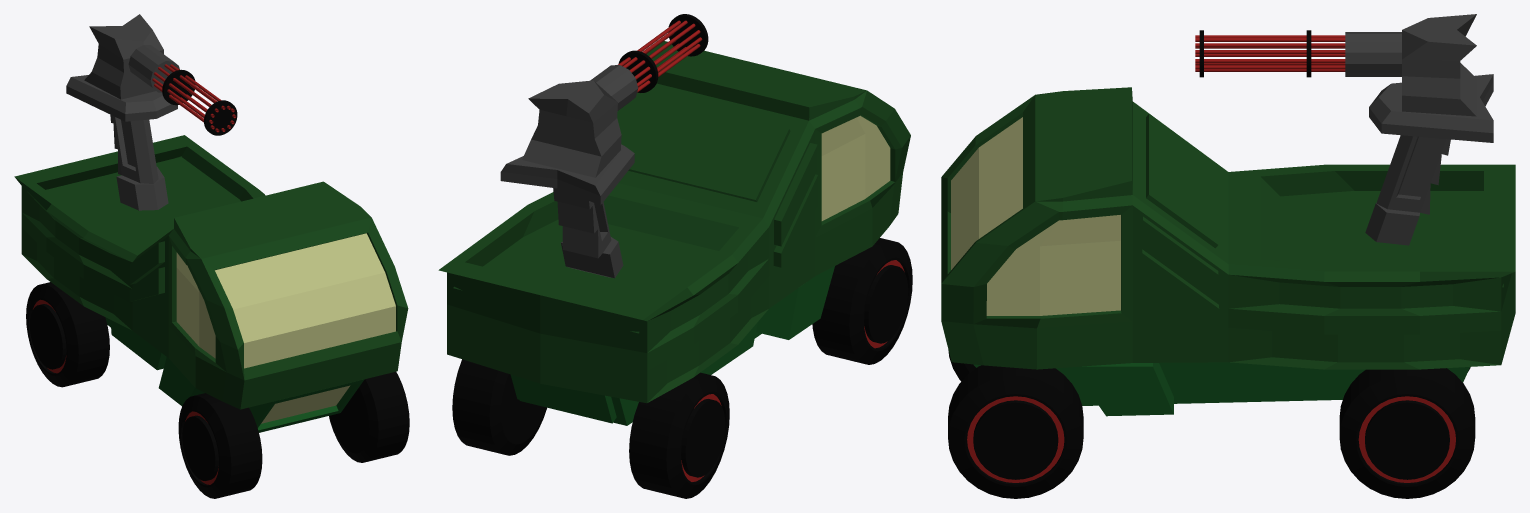
Rendered from GutlingCar.fbx.
3 views of the same model, side by side, from view 1: azimuth 30°, elevation 25°; view 2: azimuth 150°, elevation 25°; view 3: azimuth 270°, elevation 25° (orthographic). The views are drawn at different scales.
Visible parts, largest first — view 1: Cabine, FrontWheels, BackWheels, BaseCannon, CarBase, BaseGun, Cylinder.015, Cylinder.014; view 2: Cabine, BackWheels, FrontWheels, BaseGun, BaseCannon, CarBase, Cylinder.015, Cylinder.014; view 3: Cabine, FrontWheels, BackWheels, CarBase, BaseCannon, BaseGun, Cylinder.011, Cylinder.013.
Boxes of the visible parts, x1,y1,x2,y2 form: Cabine: (14,135,408,409); FrontWheels: (178,371,409,498); BackWheels: (26,282,109,387); BaseCannon: (66,75,177,210); CarBase: (105,317,364,432); BaseGun: (84,14,179,99); Cylinder.015: (204,100,237,135); Cylinder.014: (162,69,195,105); Cabine: (438,41,910,403); BackWheels: (452,359,729,498); FrontWheels: (812,238,912,364); BaseGun: (522,65,638,177); BaseCannon: (500,144,634,278); CarBase: (510,266,834,425); Cylinder.015: (668,14,708,56); Cylinder.014: (618,50,658,92); Cabine: (941,87,1515,369); FrontWheels: (948,350,1083,498); BackWheels: (1339,367,1475,498); CarBase: (973,362,1469,416); BaseCannon: (1365,74,1493,245); BaseGun: (1345,14,1476,116); Cylinder.011: (1195,65,1345,69); Cylinder.013: (1195,43,1345,47).
Size of the model in its own units: 416 by 672 by 846.
